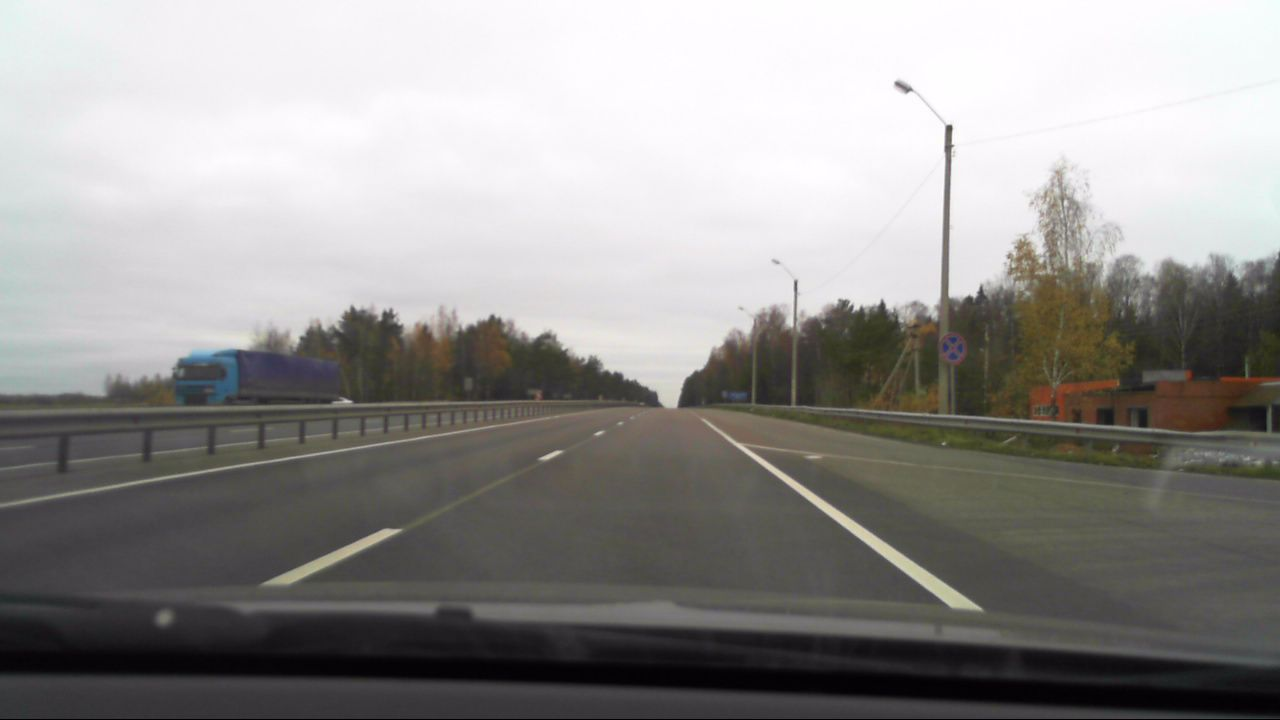No Parking: (937, 331, 971, 365)
